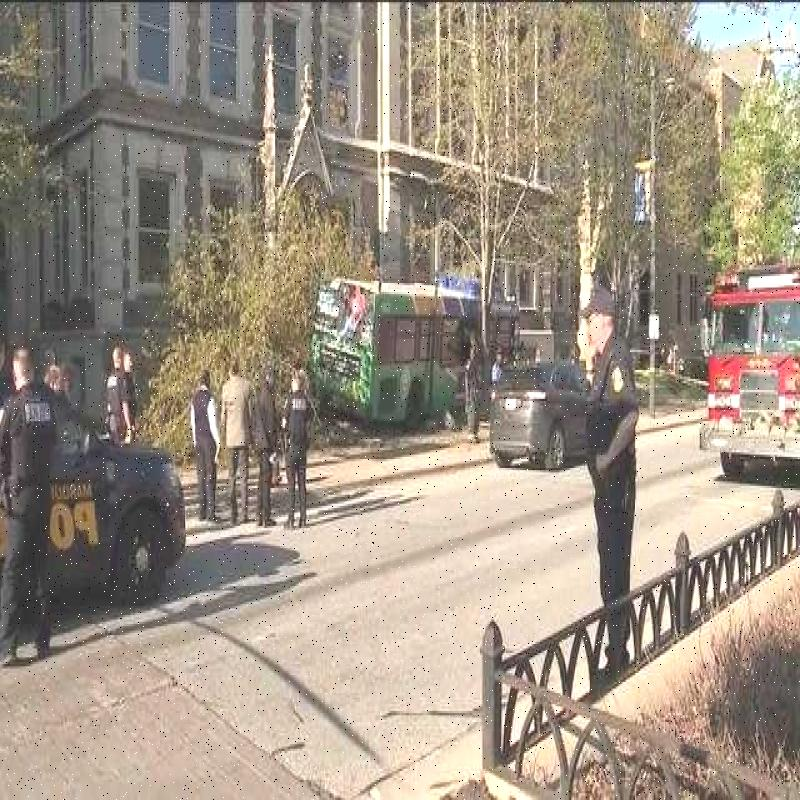bus: (304, 240, 505, 440), (683, 213, 800, 490)
